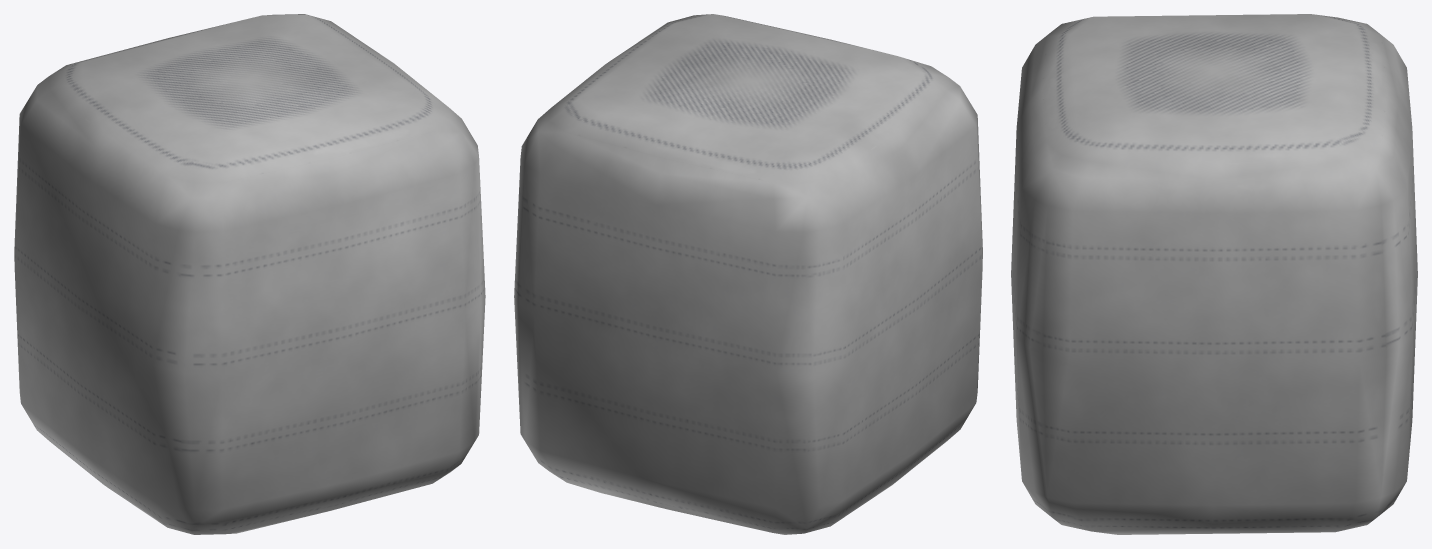
The model's file is RightUpperLeg_C1.fbx.
3 views of the same model, side by side, from view 1: azimuth 30°, elevation 25°; view 2: azimuth 150°, elevation 25°; view 3: azimuth 270°, elevation 25° (orthographic). The views are drawn at different scales.
Visible parts, largest first — view 1: Civ_Bermuda_RightUpperLeg_C1; view 2: Civ_Bermuda_RightUpperLeg_C1; view 3: Civ_Bermuda_RightUpperLeg_C1.
Boxes of the visible parts, box(x1,y1,x2,y2) form: Civ_Bermuda_RightUpperLeg_C1: box(14, 14, 485, 534); Civ_Bermuda_RightUpperLeg_C1: box(514, 14, 982, 534); Civ_Bermuda_RightUpperLeg_C1: box(1011, 14, 1417, 534).
Bounding box in the file's own units: 1.31 × 1.43 × 1.29.
